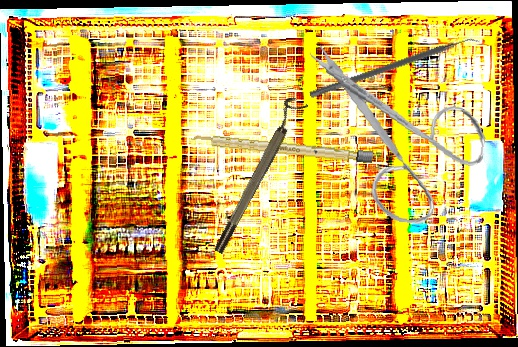Fixation Ring: (204, 94, 309, 256)
Iris Scissors: (289, 43, 495, 231)
Scalpel Handle: (190, 132, 374, 164)
Spatula Surgical: (308, 30, 482, 106)
